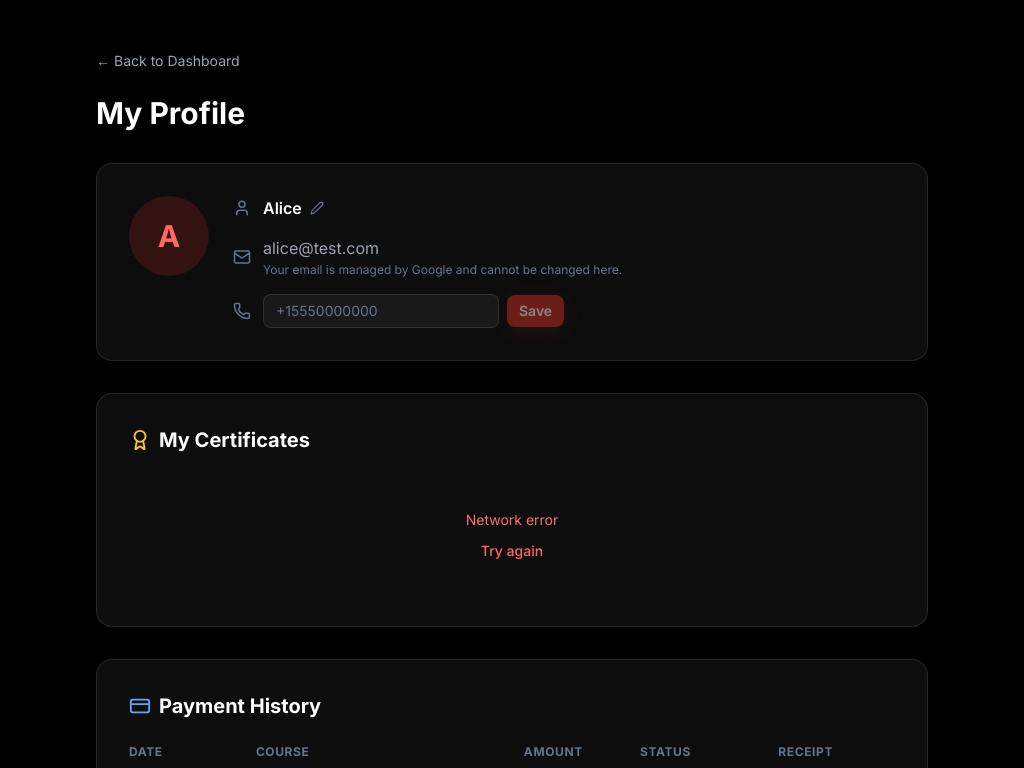
it: Profile › retries certificate fetch when "Try again" is clicked
Expected: the text "Network error" is shown, x1=466 y1=511 x2=558 y2=528
Click the button "Try again" at (512, 551), box x1=481 y1=541 x2=543 y2=561
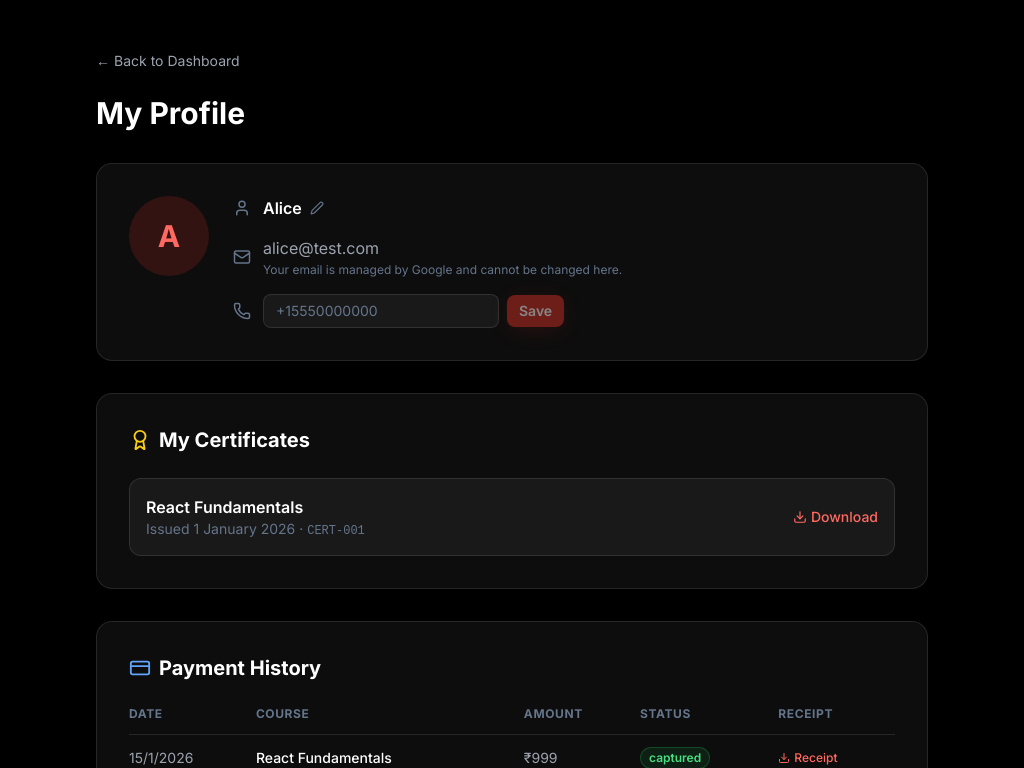
Expected: the text "React Fundamentals" is shown, x1=146 y1=497 x2=303 y2=517
